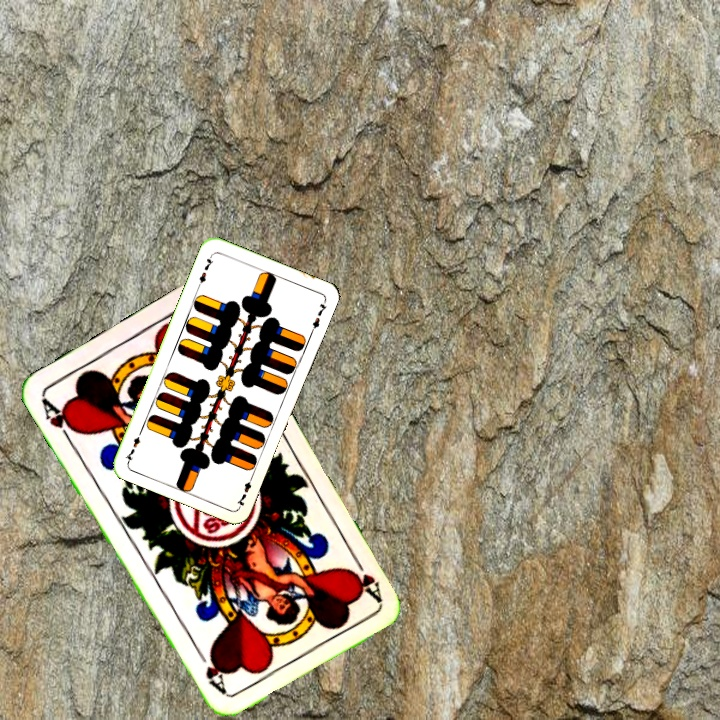E7: (233, 471, 256, 509), (194, 251, 216, 289)
HA: (37, 394, 82, 448), (346, 549, 384, 604)
